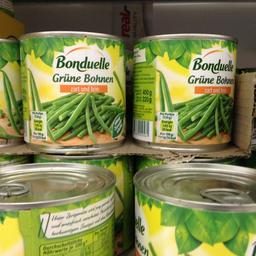beans: (16, 31, 126, 145), (134, 32, 240, 147)
